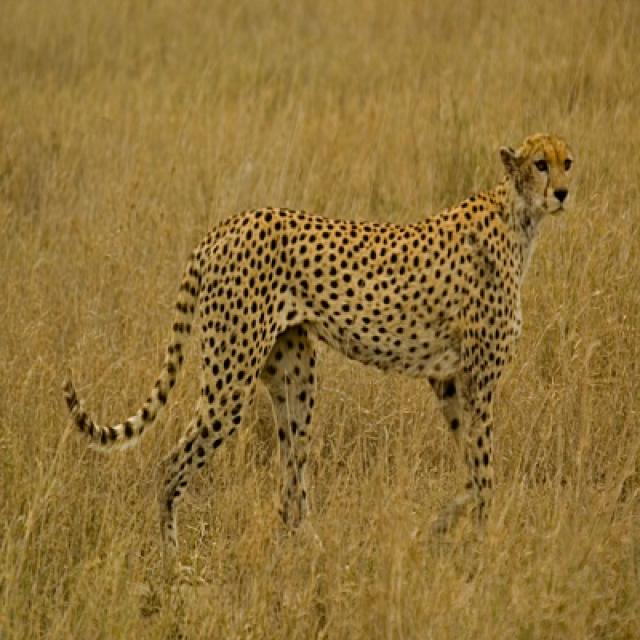Cheetah: (61, 135, 578, 568)
